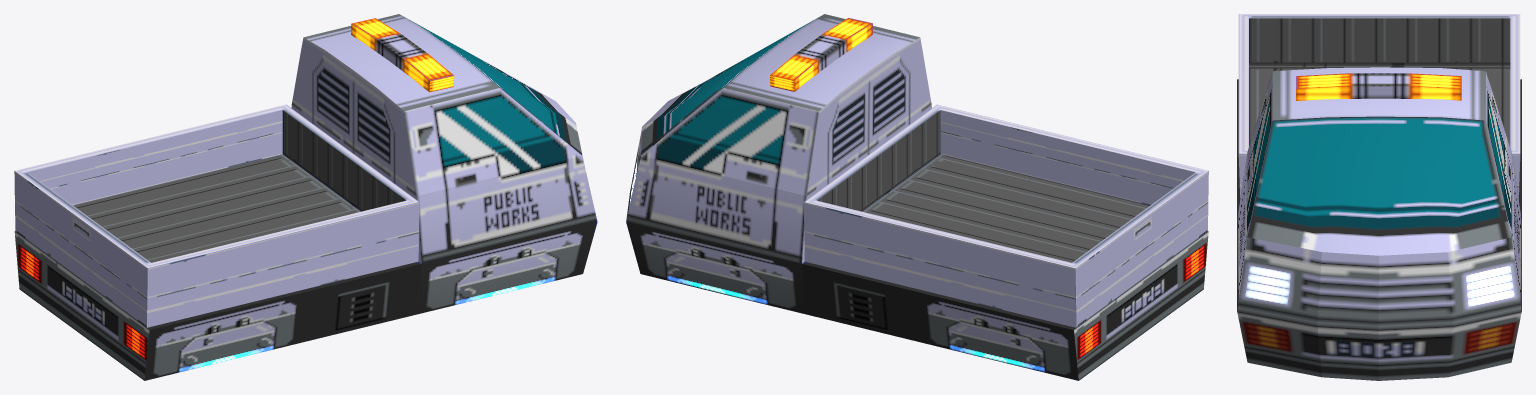
The model's file is publicWorks_truck.DAE.
3 views of the same model, side by side, from view 1: azimuth 30°, elevation 25°; view 2: azimuth 150°, elevation 25°; view 3: azimuth 270°, elevation 25° (orthographic). The views are drawn at different scales.
Parts seen in each view (by area): view 1: public_works, truck_bed; view 2: public_works, truck_bed; view 3: public_works, truck_bed.
Boxes of the visible parts, x1,y1,x2,y2 form: public_works: (14, 14, 597, 380); truck_bed: (14, 104, 419, 327); public_works: (626, 14, 1208, 380); truck_bed: (804, 104, 1208, 327); public_works: (1237, 67, 1521, 380); truck_bed: (1238, 14, 1520, 199).
Bounding box in the file's own units: 56.57 × 23.5 × 27.27.
